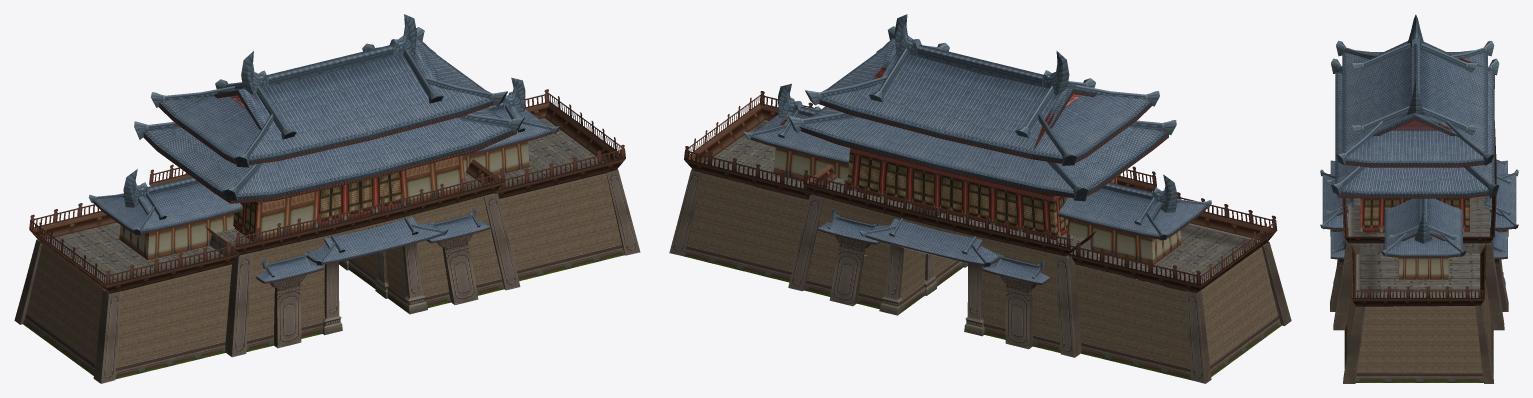
The model's file is 高端门.fbx.
The picture shows the model from 3 angles, left to right: view 1: azimuth 30°, elevation 25°; view 2: azimuth 150°, elevation 25°; view 3: azimuth 270°, elevation 25°; orthographic projection. The views are drawn at different scales.
Parts seen in each view (by area): view 1: gujian_119, gujian_114, gujian_115, gujian_120, gujian_113, gujian_117, gujian_116, gujian_111; view 2: gujian_119, gujian_114, gujian_115, gujian_120, gujian_111, gujian_117, gujian_116, gujian_113; view 3: gujian_119, gujian_115, gujian_114, gujian_117, gujian_120, gujian_111, gujian_116, gujian_113, gujian_118.
Boxes of the visible parts, x1,y1,x2,y2 form: gujian_119: (93,39,556,283); gujian_114: (26,173,621,366); gujian_115: (23,89,625,379); gujian_120: (14,169,640,383); gujian_113: (119,141,529,260); gujian_117: (88,27,560,277); gujian_116: (123,14,525,268); gujian_111: (233,171,405,241); gujian_119: (750,38,1207,285); gujian_114: (687,121,1278,367); gujian_115: (683,91,1281,380); gujian_120: (669,123,1291,383); gujian_111: (847,148,1117,240); gujian_117: (743,26,1211,278); gujian_116: (778,14,1177,270); gujian_113: (773,147,1181,264); gujian_119: (1322,41,1516,259); gujian_115: (1342,121,1496,382); gujian_114: (1346,197,1491,372); gujian_117: (1320,40,1518,256); gujian_120: (1330,229,1508,383); gujian_111: (1360,198,1469,231); gujian_116: (1343,14,1494,248); gujian_113: (1360,199,1448,279); gujian_118: (1341,120,1496,250).
Bounding box in the file's own units: 473 × 173 × 214.
